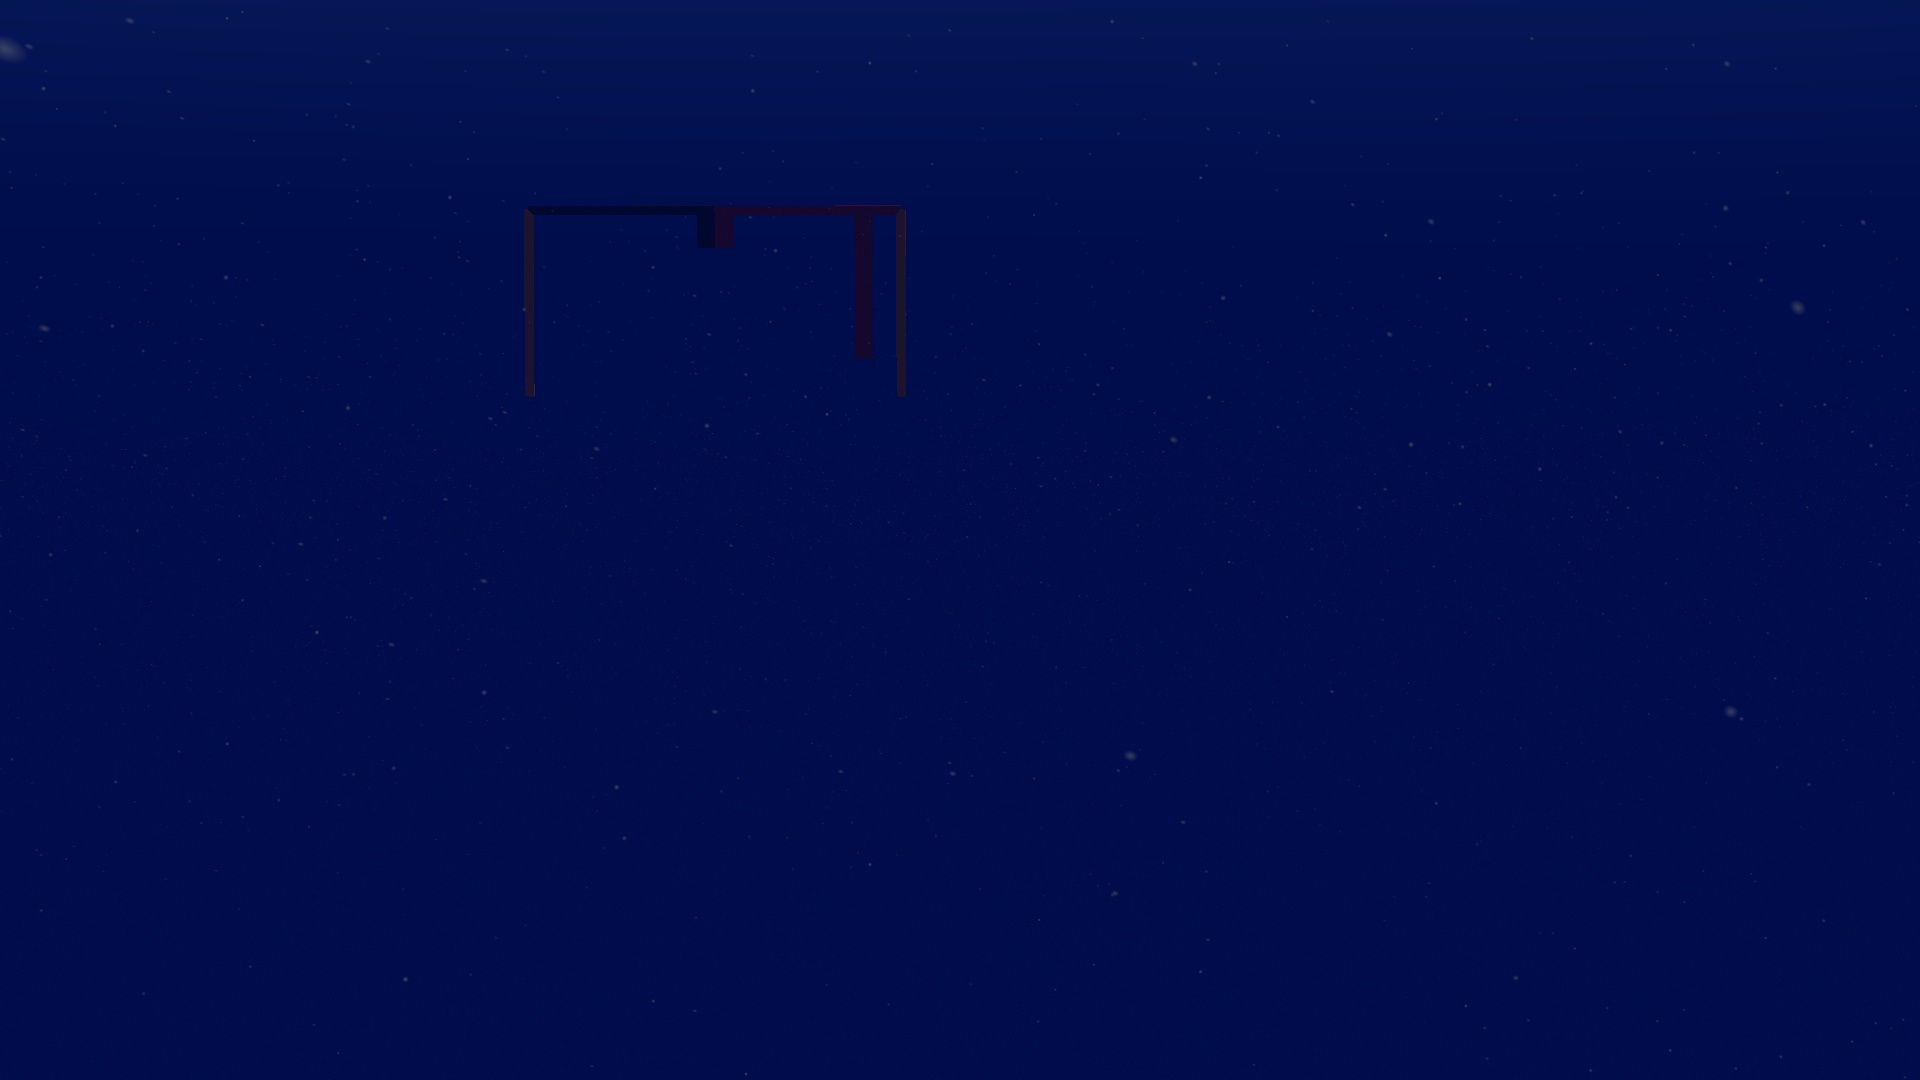Gate: (516, 195, 915, 413)
